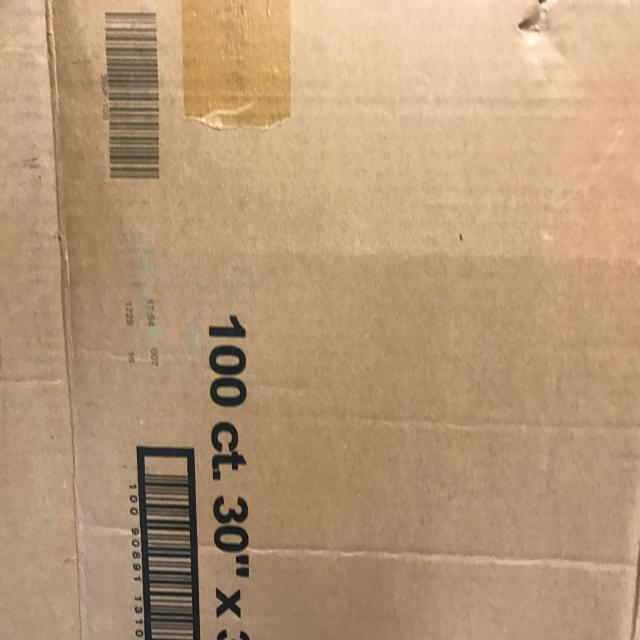cardboard: (7, 0, 639, 639)
